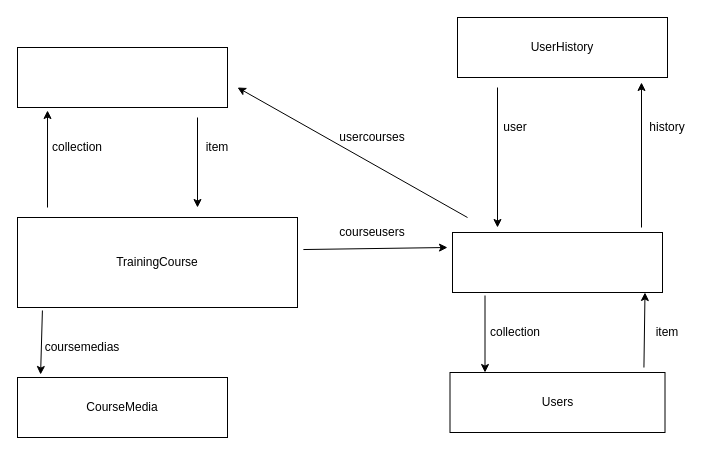
This 705x455 diagram has some shape labels left out. The box of each missing label's shape, as (x1, y1, x2, y2) in pixels:
CourseList: (16, 46, 228, 108)
User(normal/admin): (452, 232, 662, 292)
